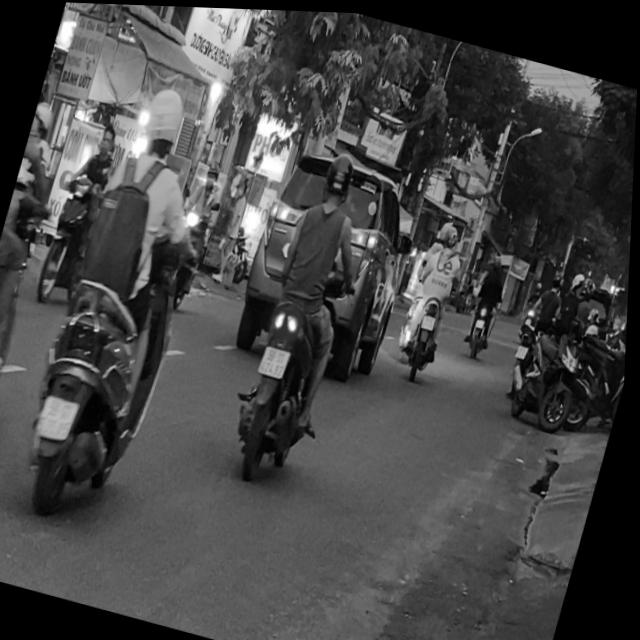helmet: (135, 80, 192, 160), (318, 145, 360, 206), (97, 122, 118, 155)
licenseplate: (4, 65, 242, 540), (222, 136, 391, 491), (32, 112, 127, 312)
nohelmet: (40, 394, 81, 440), (260, 342, 293, 376)
